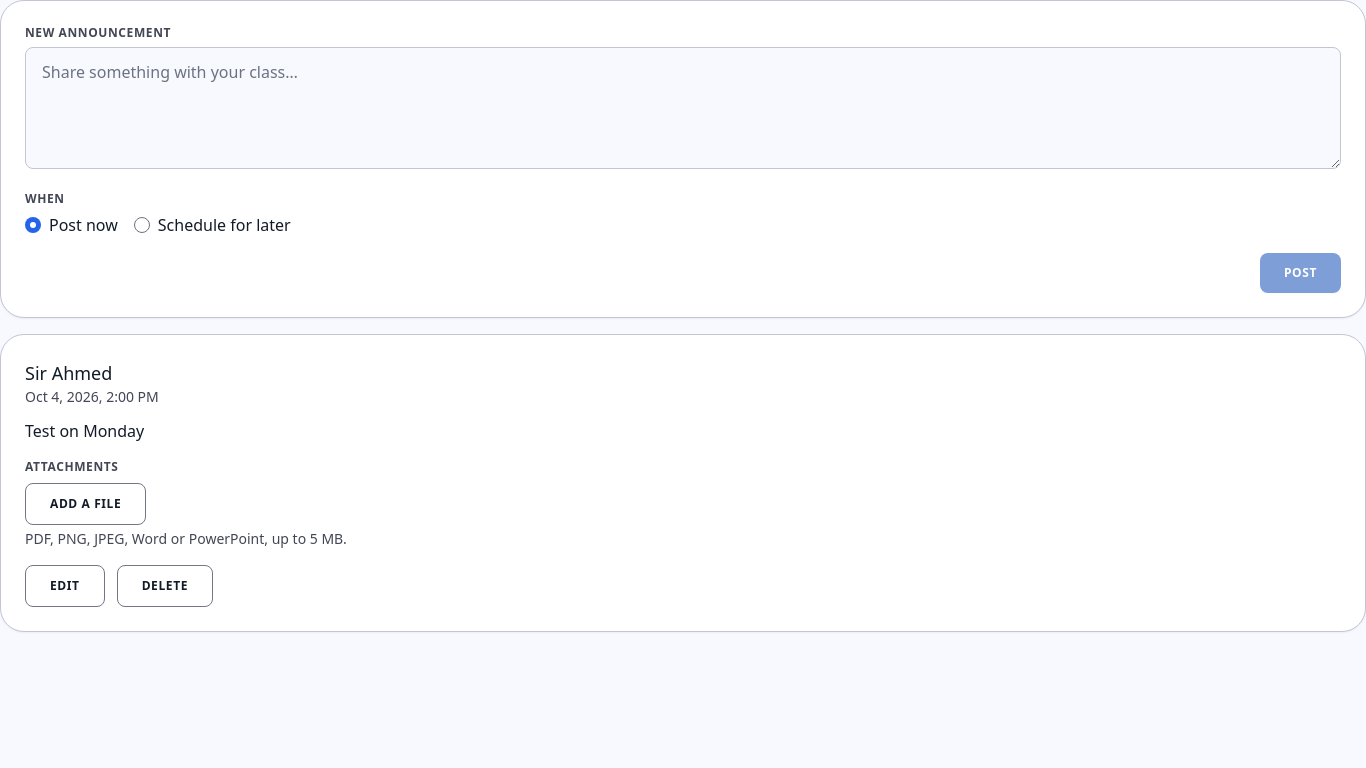
Scenario: the owner › posts now without a publish time
Type "  Bring calculators " into the text box labelled "New announcement" at [683, 108], box [25,47,1341,169]
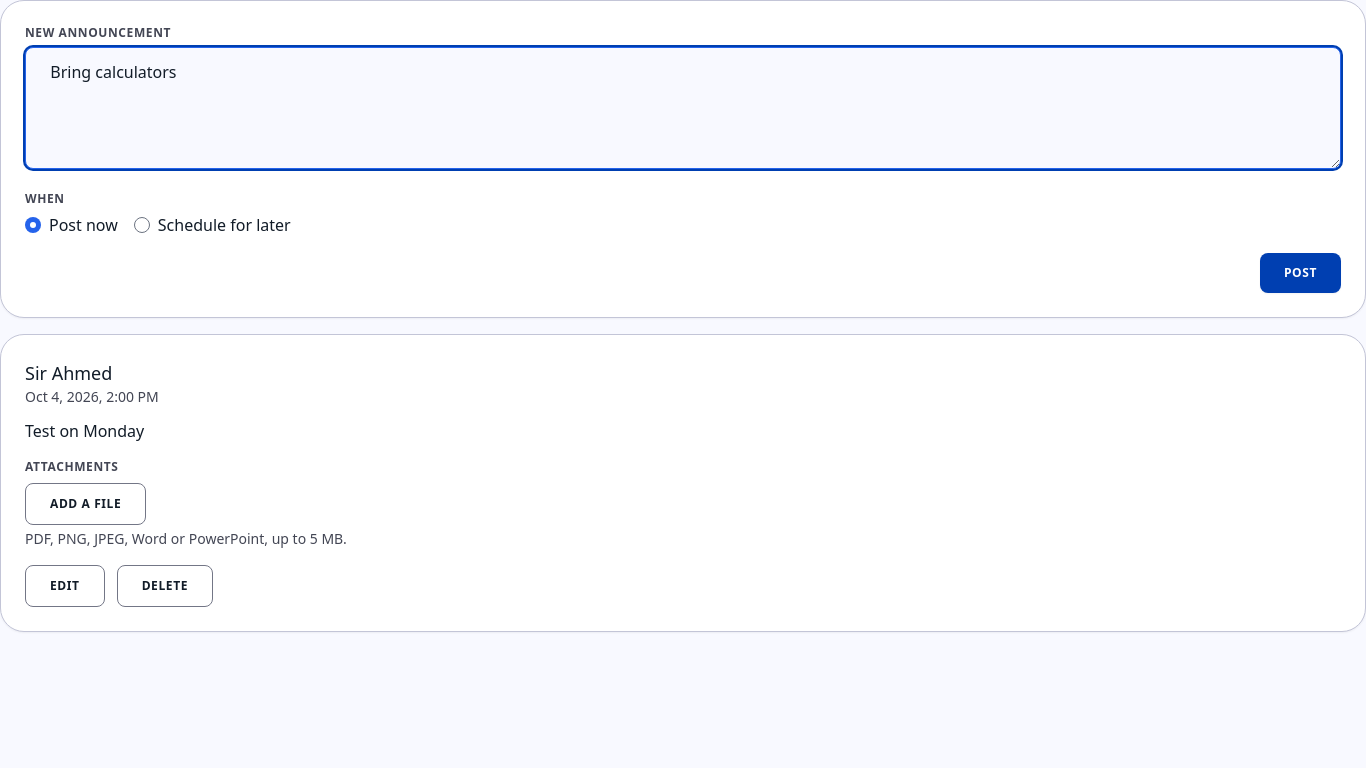
Click the button "Post" at [1300, 273], box [1260,253,1341,293]
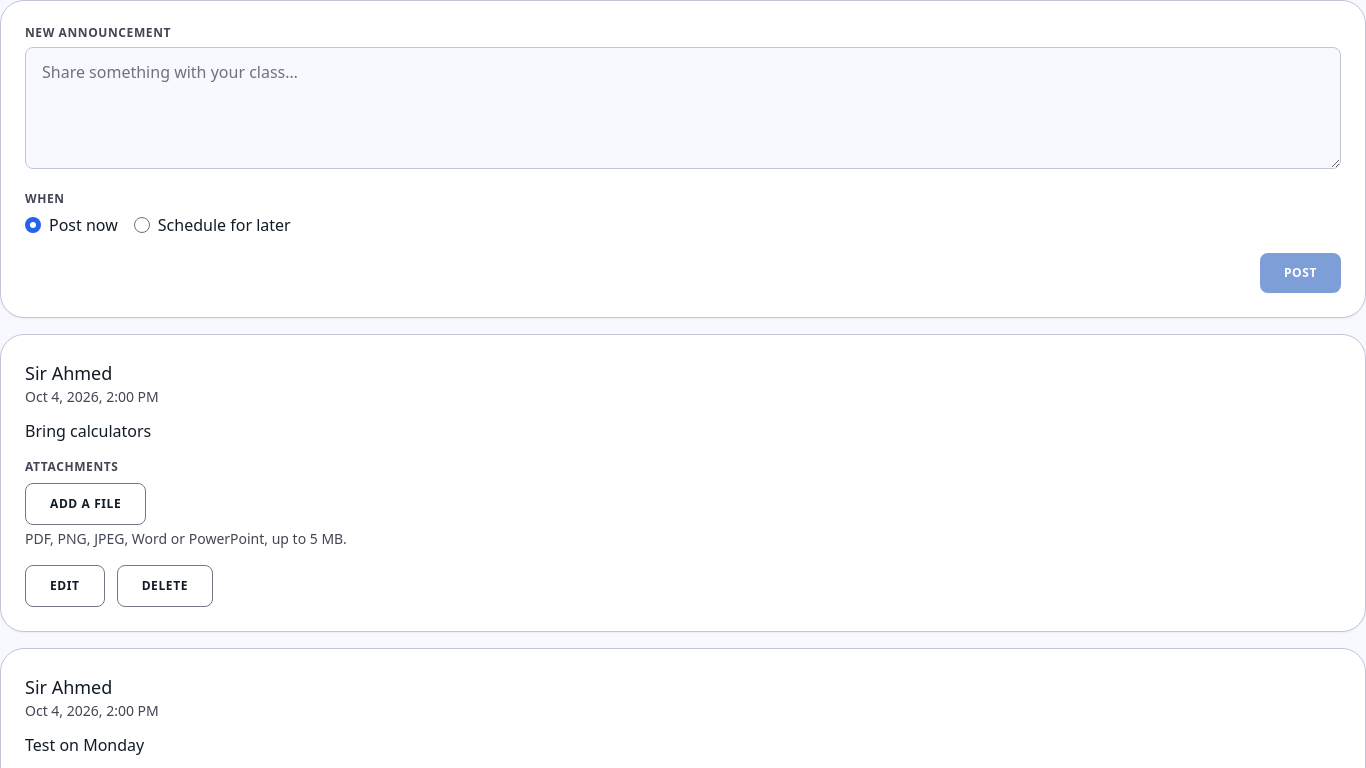
Now the text "Bring calculators" is shown, box [25,420,151,442]
